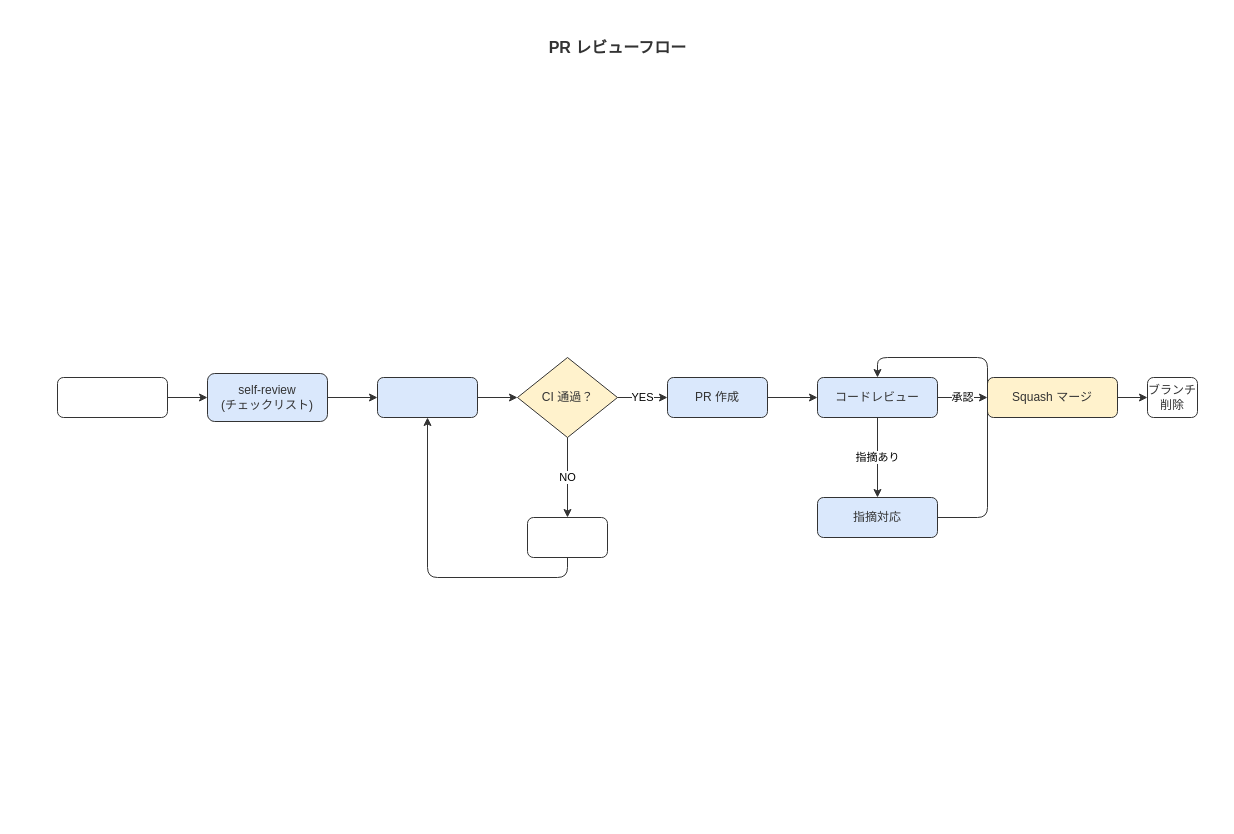
The diagram is 1234 pixels wide and 834 high, and some of its shapes have lost their labels. The shapes that lost their labels are listed below. From the top down, each one's centre as x and y in pixels, then its label:
At point 112,397: "実装完了".
At point 427,397: "CI 実行".
At point 567,537: "修正".
